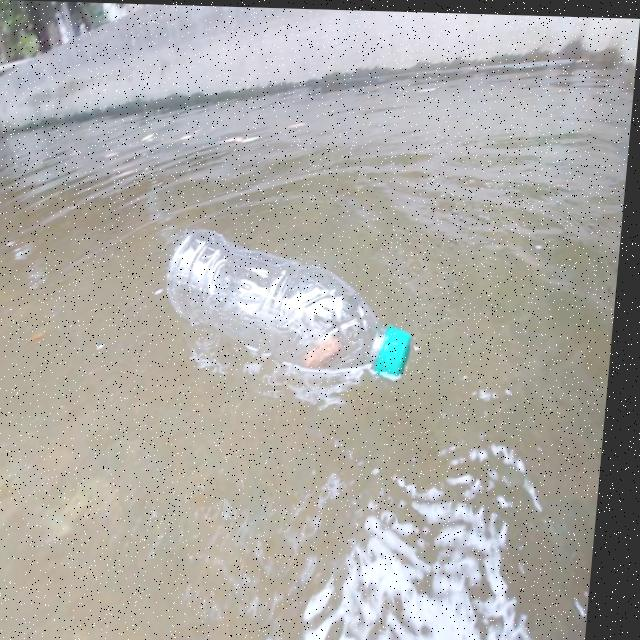waterbottle: (159, 222, 437, 395)
